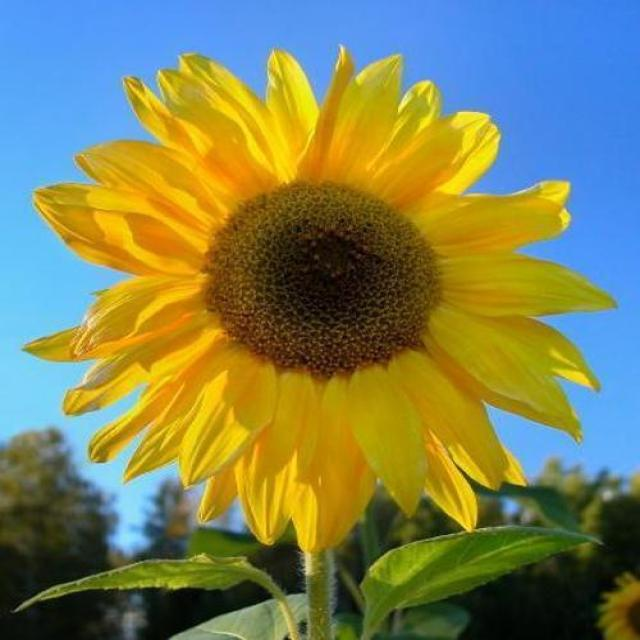sunflower: (14, 41, 612, 536)
